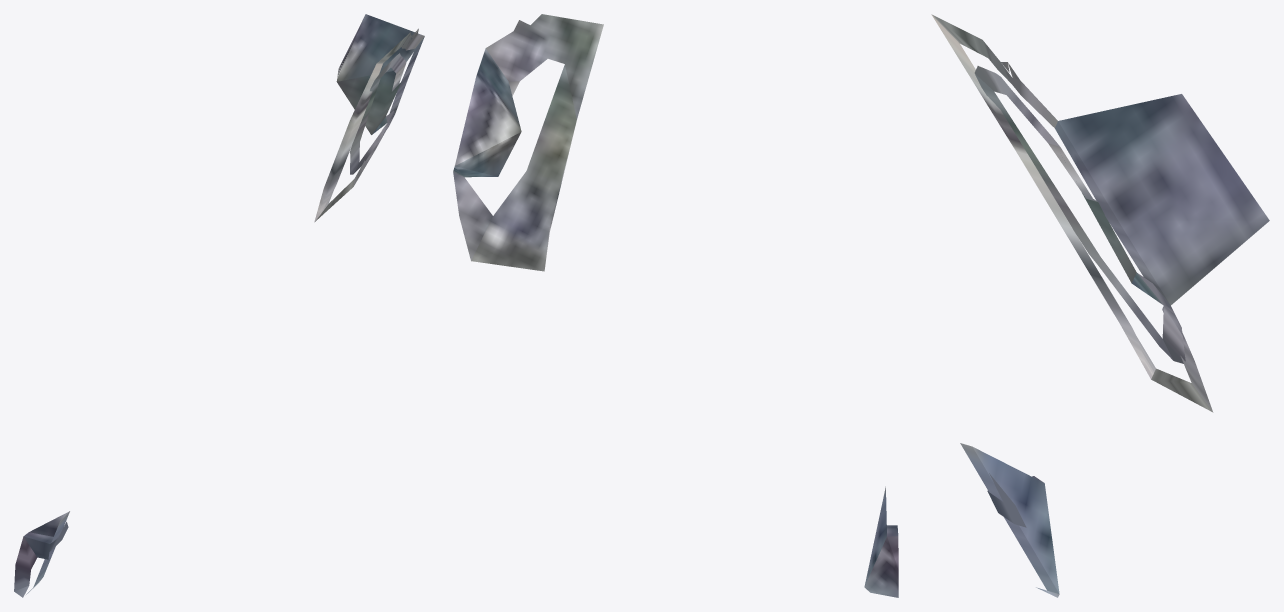
3 renders of one model, left to right at view 1: azimuth 30°, elevation 25°; view 2: azimuth 150°, elevation 25°; view 3: azimuth 270°, elevation 25°, orthographic. The views are drawn at different scales.
Bounding box in the file's own units: 52.19 × 58.4 × 20.49.
1 material, 1 textured.
